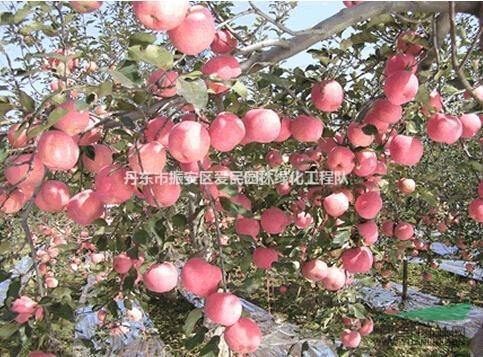apple: (170, 6, 215, 54), (133, 1, 189, 31), (208, 110, 248, 151), (169, 121, 209, 162), (36, 131, 79, 168), (181, 257, 222, 295), (66, 189, 103, 225), (244, 108, 281, 143), (204, 292, 243, 325), (223, 318, 262, 349), (34, 179, 70, 212), (385, 71, 418, 103), (390, 135, 423, 167), (429, 114, 462, 146), (144, 261, 178, 291), (312, 80, 343, 109), (342, 245, 373, 273), (292, 116, 322, 141), (322, 191, 349, 217), (327, 145, 353, 172)
